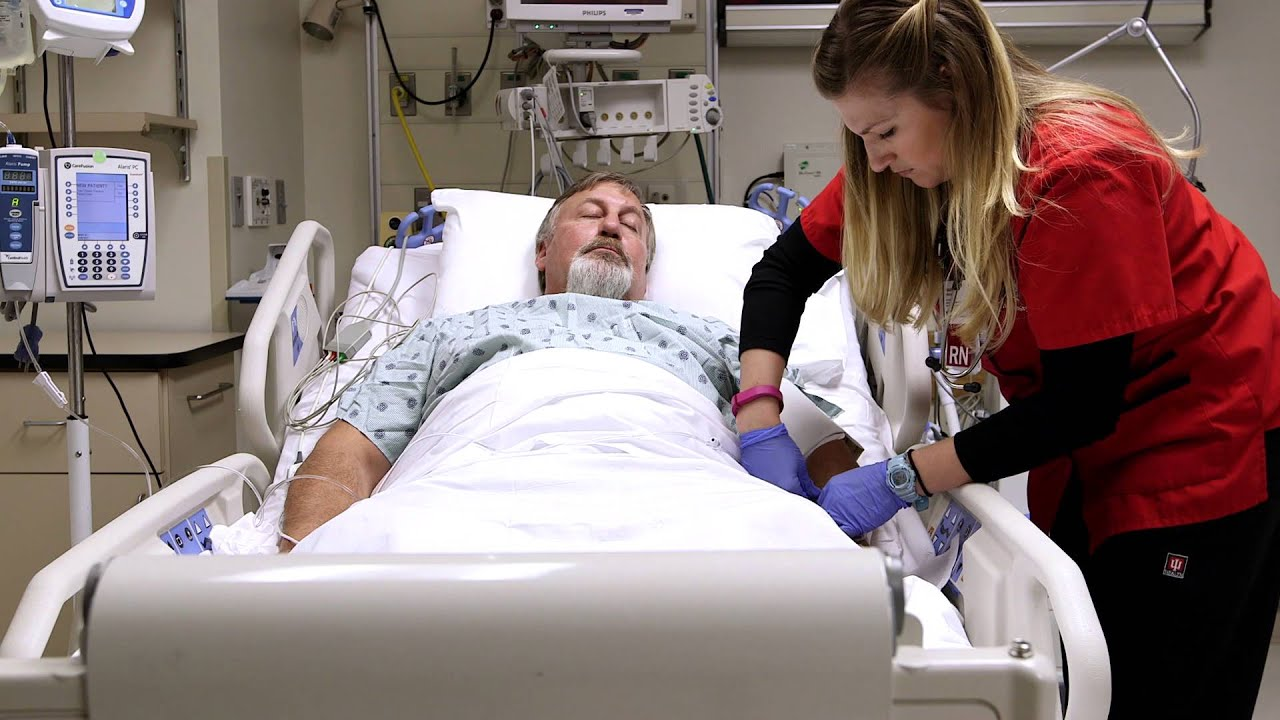bedrail: (863, 443, 1113, 720), (1, 452, 274, 670), (234, 218, 335, 488)
bedside_table: (1, 312, 244, 488)
foot_board: (101, 538, 1051, 718)
handle: (163, 381, 240, 413), (20, 407, 97, 439)
hospital_bed: (1, 193, 1110, 720)
infusion_pump: (1, 131, 162, 317)
iv_pole: (38, 49, 104, 541)
patient: (279, 174, 876, 720)
staff: (732, 1, 1280, 720)
